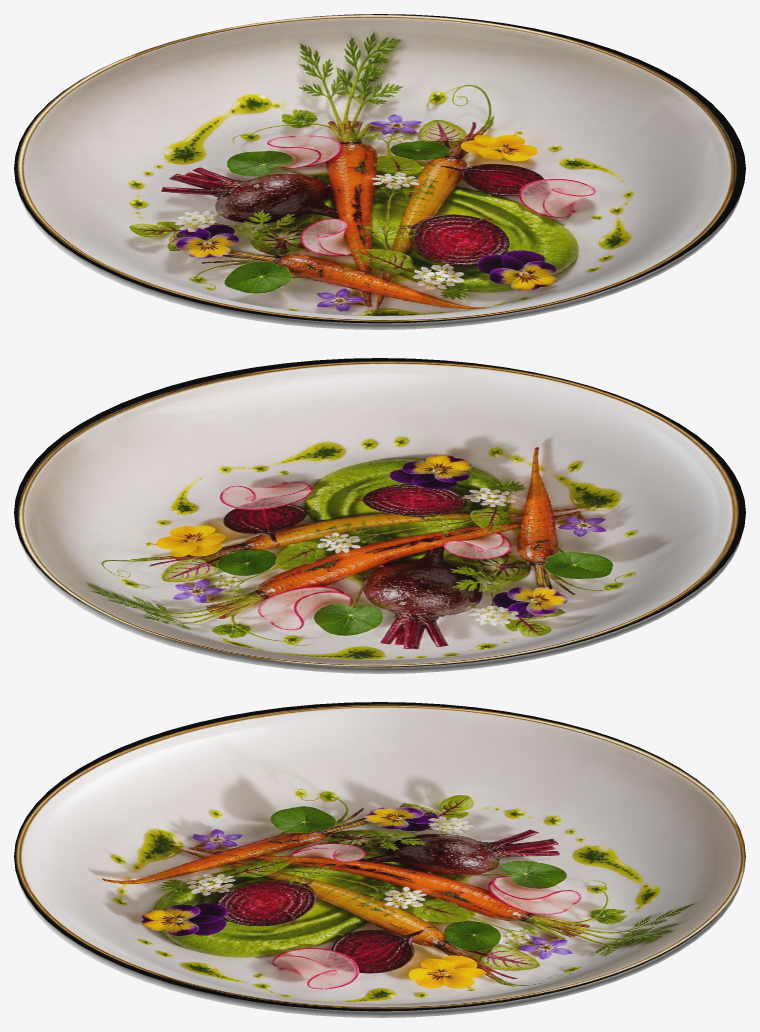
Rendered from degustacao-jardim.glb.
3 renders of one model, top to bottom at view 1: azimuth 30°, elevation 25°; view 2: azimuth 150°, elevation 25°; view 3: azimuth 270°, elevation 25°, orthographic.
Parts seen in each view (by area): view 1: dish; view 2: dish; view 3: dish.
Boxes of the visible parts, <box> form: dish: <box>14,14,745,329</box>; dish: <box>14,358,745,673</box>; dish: <box>14,702,745,1017</box>.
Size of the model in its own units: 0.27 by 0.025 by 0.27.
2 materials, 1 textured.
